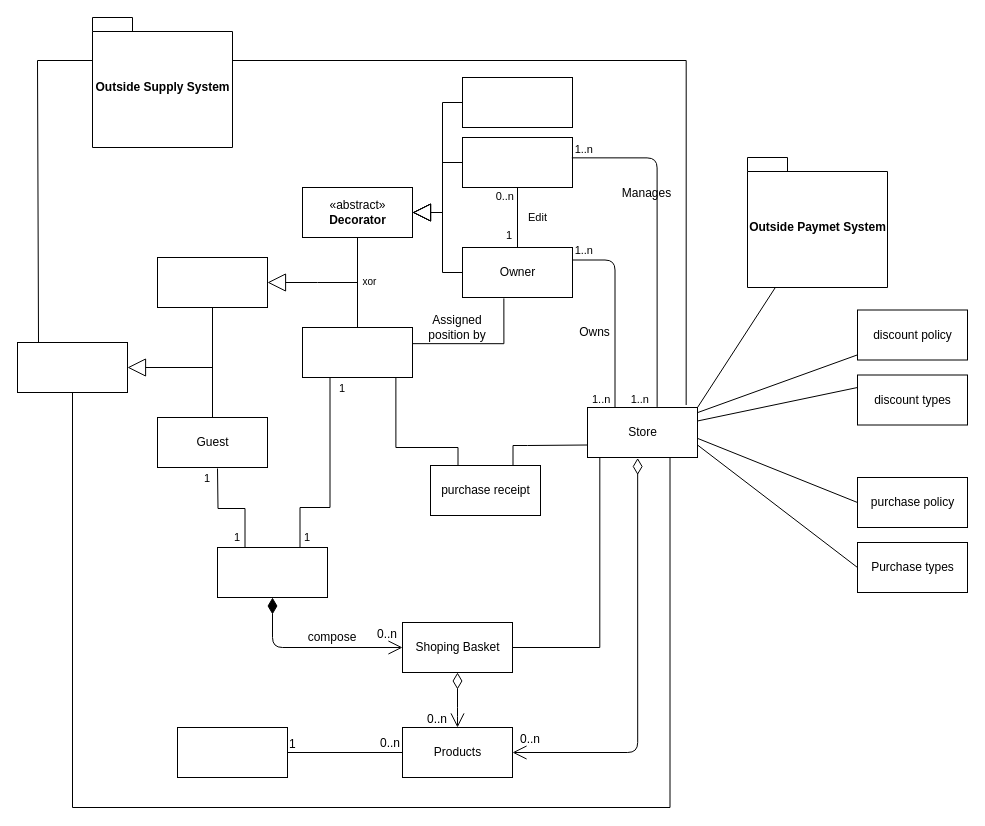
The diagram is 985 pixels wide and 826 high, and some of its shapes have lost their labels. Each missing label, with the box of its shape:
Admin: (462, 76, 572, 128)
Manager: (462, 136, 572, 188)
ProductInfo: (176, 726, 288, 778)
Registered: (302, 326, 412, 378)
Shoping Cart: (216, 546, 328, 598)
«interface» iMemeber: (156, 256, 268, 308)
«interface» User: (16, 342, 128, 392)
